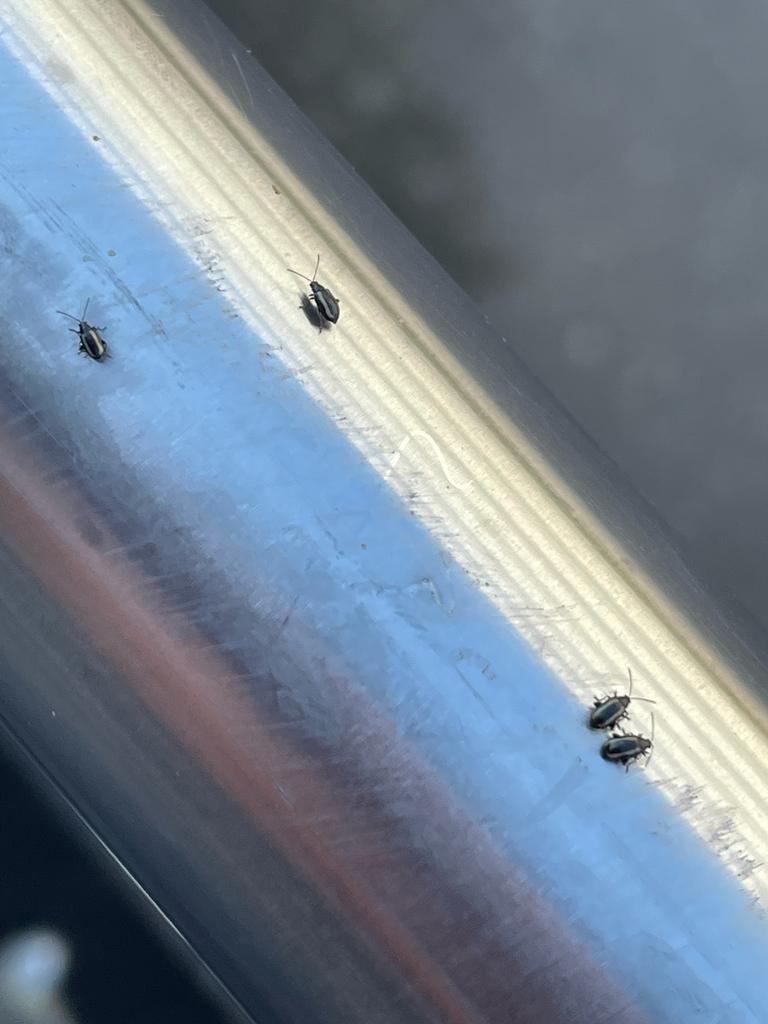flea_beetle: (35, 289, 131, 376), (276, 249, 365, 339), (578, 657, 660, 736), (587, 711, 665, 778)
